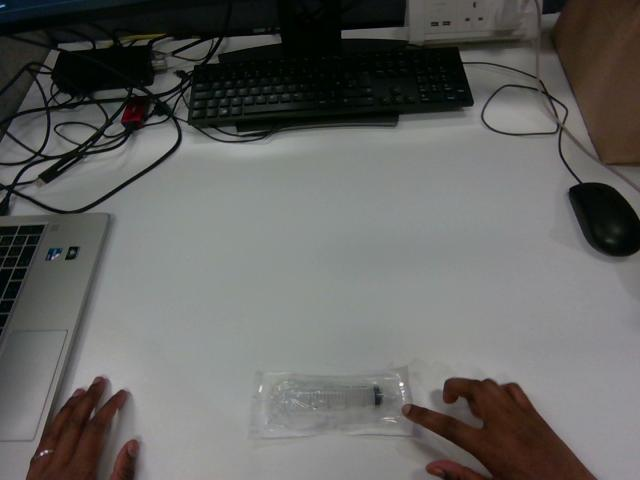syringe: (251, 371, 410, 437)
